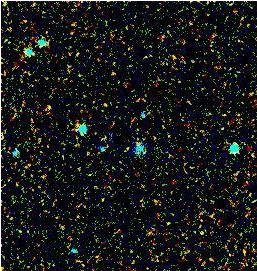star: (182, 216, 212, 246)
